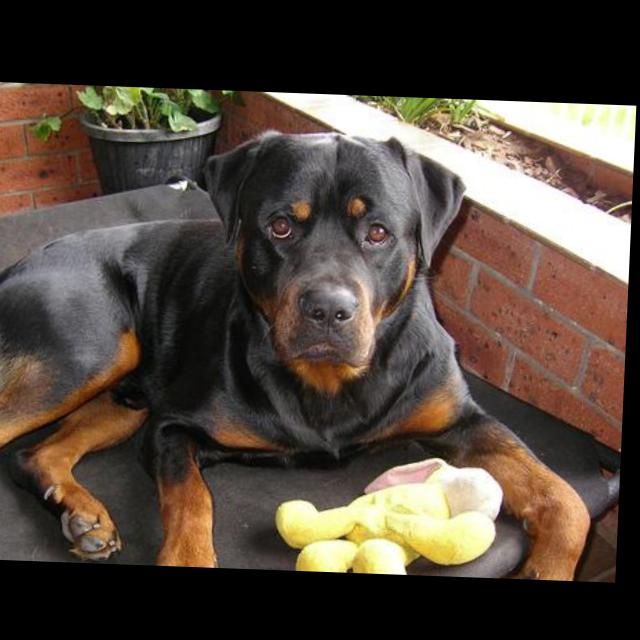rottweiler: (1, 118, 612, 578)
